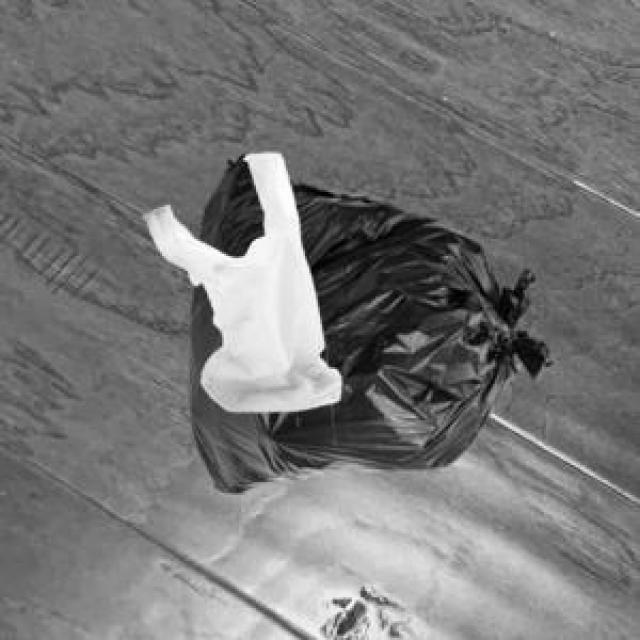miscellaneous trash: (186, 152, 548, 491)
